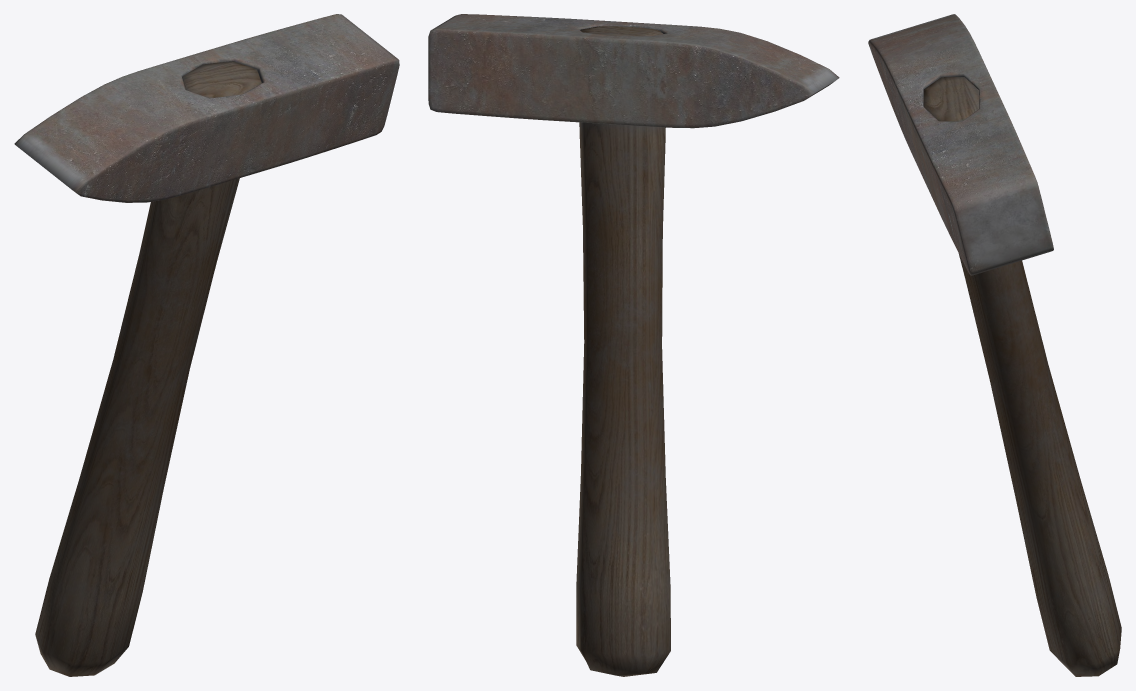
3 renders of one model, left to right at view 1: azimuth 30°, elevation 25°; view 2: azimuth 150°, elevation 25°; view 3: azimuth 270°, elevation 25°, orthographic. The views are drawn at different scales.
Parts seen in each view (by area): view 1: Cube.002; view 2: Cube.002; view 3: Cube.002.
Boxes of the visible parts, x1,y1,x2,y2 form: Cube.002: (14,14,399,676); Cube.002: (428,14,839,676); Cube.002: (868,14,1121,676).
Size of the model in its own units: 0.7112 by 1.12 by 0.4192.
1 material, 1 textured.
